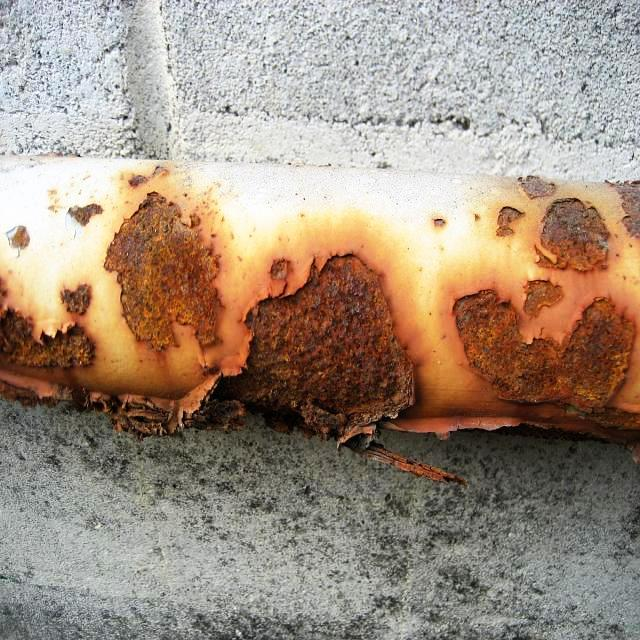Corrosion: (0, 159, 640, 486)
